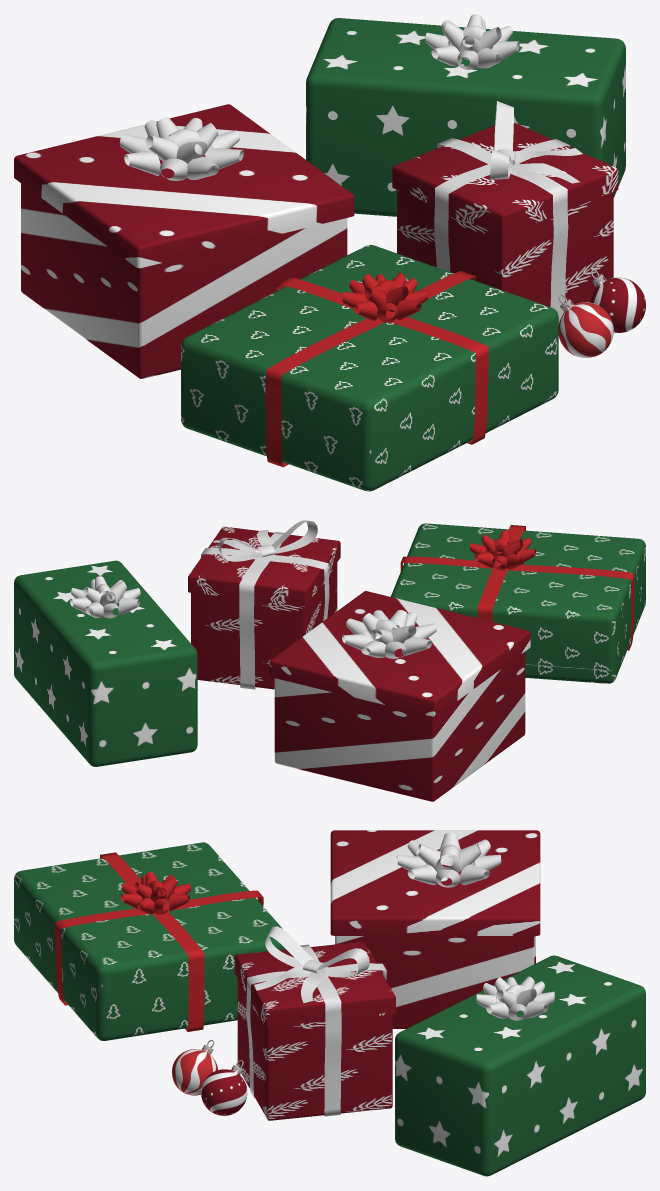
Rendered from christmas_gifts_2.glb.
The picture shows the model from 3 angles, top to bottom: view 1: azimuth 30°, elevation 25°; view 2: azimuth 150°, elevation 25°; view 3: azimuth 270°, elevation 25°; orthographic projection. The views are drawn at different scales.
Visible parts, largest first — view 1: regalo04, regalo01, regalo03, regalo02, Cinta01, Cinta02, Cinta04, Cinta03, Esfera02, Esfera01; view 2: regalo04, regalo03, regalo01, regalo02, Cinta02, Cinta01, Cinta04, Cinta03; view 3: regalo03, regalo01, regalo04, regalo02, Cinta01, Cinta02, Cinta04, Cinta03, Esfera01, Esfera02.
Boxes of the visible parts, <box> form: regalo04: <box>14,104,354,378</box>; regalo01: <box>181,244,558,491</box>; regalo03: <box>306,18,625,216</box>; regalo02: <box>392,122,618,306</box>; Cinta01: <box>265,271,488,467</box>; Cinta02: <box>434,101,582,323</box>; Cinta04: <box>119,117,243,180</box>; Cinta03: <box>425,14,519,69</box>; Esfera02: <box>558,294,613,357</box>; Esfera01: <box>590,269,645,332</box>; regalo04: <box>269,591,530,801</box>; regalo03: <box>14,560,197,766</box>; regalo01: <box>390,523,645,683</box>; regalo02: <box>188,526,340,689</box>; Cinta02: <box>201,520,329,689</box>; Cinta01: <box>400,525,634,650</box>; Cinta04: <box>342,610,436,658</box>; Cinta03: <box>70,576,140,618</box>; regalo03: <box>395,955,645,1176</box>; regalo01: <box>14,842,285,1040</box>; regalo04: <box>330,830,540,1028</box>; regalo02: <box>234,941,395,1120</box>; Cinta01: <box>55,852,263,1031</box>; Cinta02: <box>246,926,386,1116</box>; Cinta04: <box>396,832,501,887</box>; Cinta03: <box>476,976,554,1020</box>; Esfera01: <box>201,1060,247,1115</box>; Esfera02: <box>171,1040,217,1095</box>.
Bounding box in the file's own units: 0.7034 × 0.1962 × 0.7538.
Materials: 8 (5 with a texture image).
